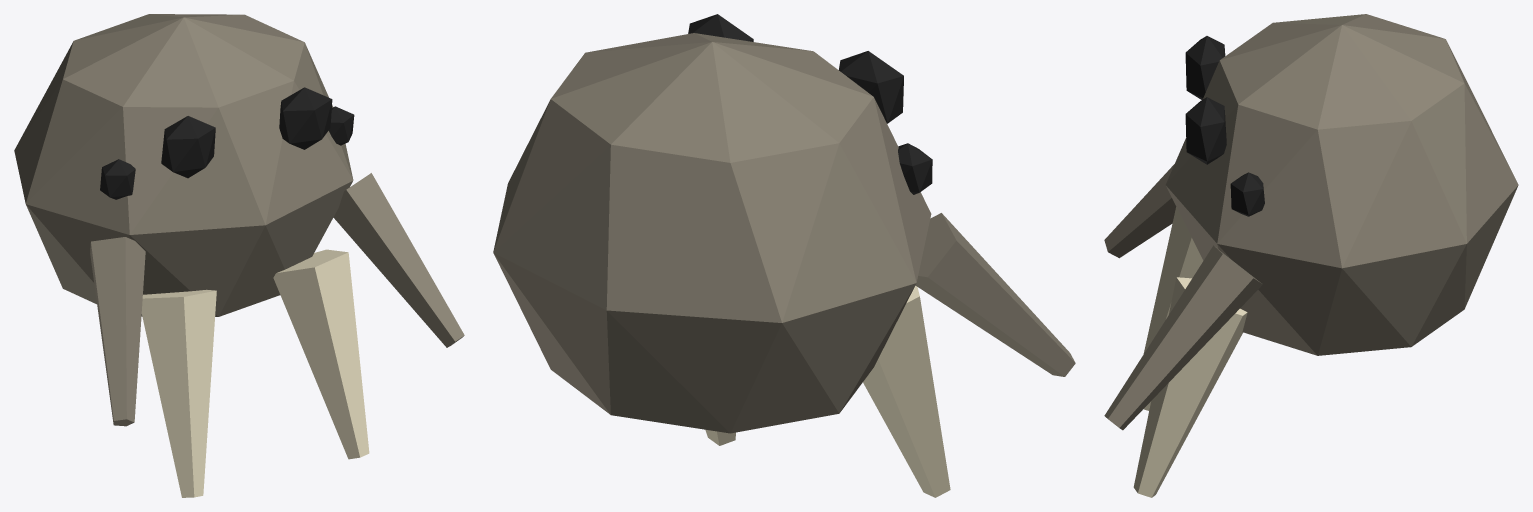
The model's file is spider_2_head.glb.
The picture shows the model from 3 angles, left to right: view 1: azimuth 30°, elevation 25°; view 2: azimuth 150°, elevation 25°; view 3: azimuth 270°, elevation 25°; orthographic projection. The views are drawn at different scales.
Parts seen in each view (by area): view 1: spider_2_head; view 2: spider_2_head; view 3: spider_2_head.
Part boxes in pixels (x1,y1,x2,y2): spider_2_head: (14,14,464,497); spider_2_head: (493,14,1075,497); spider_2_head: (1104,14,1518,497).
Bounding box in the file's own units: 0.2108 × 0.2271 × 0.1995.
